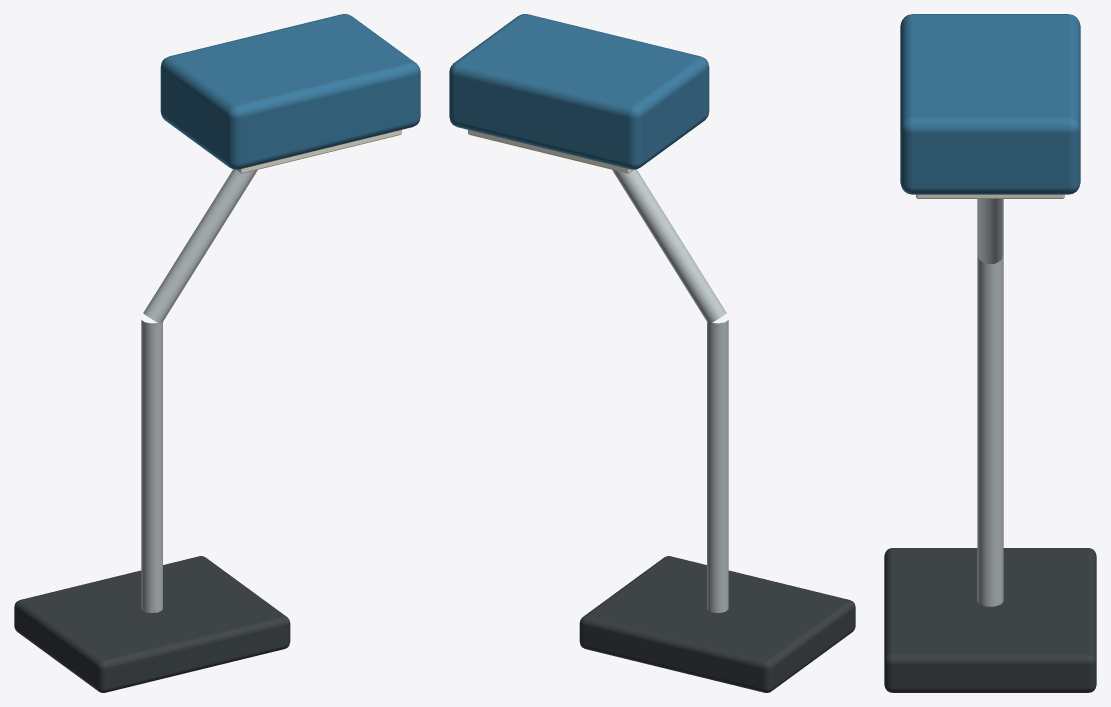
The model's file is recycling-centre-and-material-sorting-inspection-lamp-7dea048b__31140.glb.
3 views of the same model, side by side, from view 1: azimuth 30°, elevation 25°; view 2: azimuth 150°, elevation 25°; view 3: azimuth 270°, elevation 25° (orthographic). The views are drawn at different scales.
Parts seen in each view (by area): view 1: inspection-lamp; view 2: inspection-lamp; view 3: inspection-lamp.
Boxes of the visible parts, x1=… form: inspection-lamp: x1=14, y1=14, x2=420, y2=692; inspection-lamp: x1=449, y1=14, x2=855, y2=692; inspection-lamp: x1=884, y1=14, x2=1096, y2=692.
Bounding box in the file's own units: 0.43 × 0.68 × 0.2.
